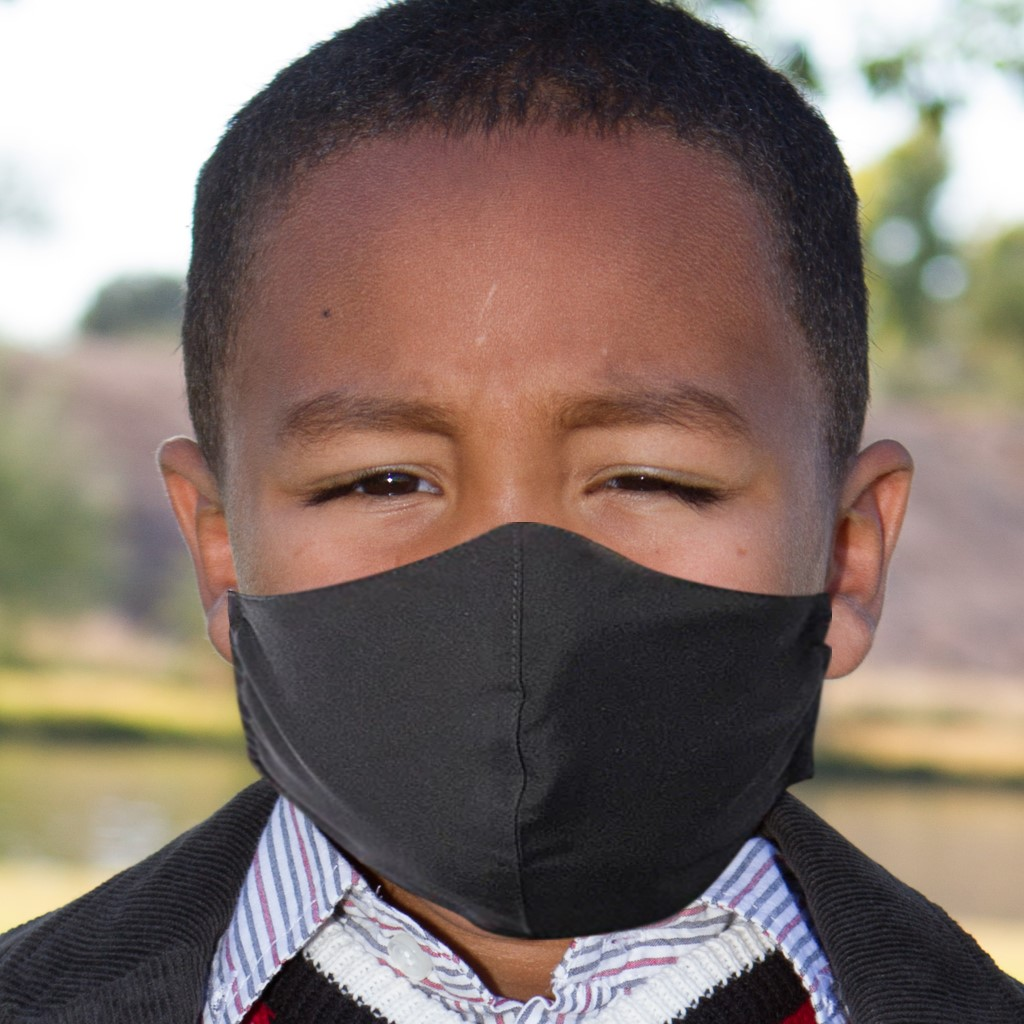con_mascara: (204, 143, 842, 923)
